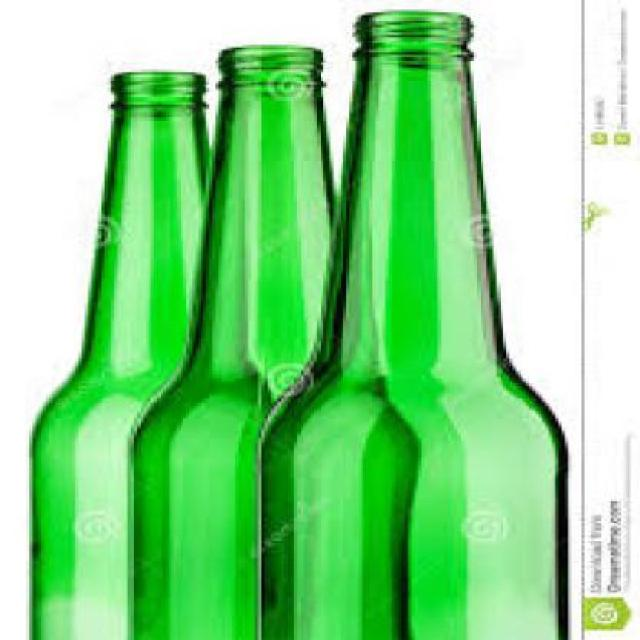kaca: (252, 11, 566, 638), (125, 43, 337, 639), (32, 71, 210, 638)
